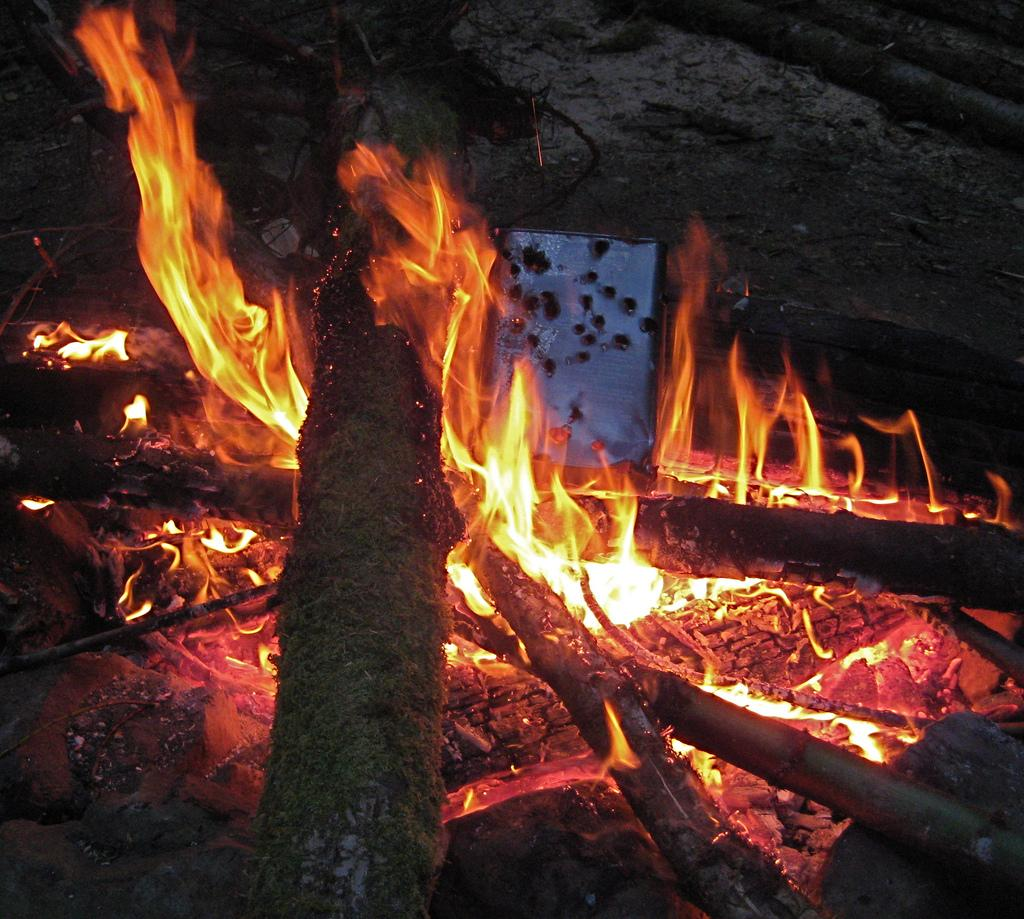fire: (155, 100, 262, 375), (455, 375, 548, 570), (382, 165, 480, 342), (682, 337, 790, 490), (565, 482, 640, 595)
